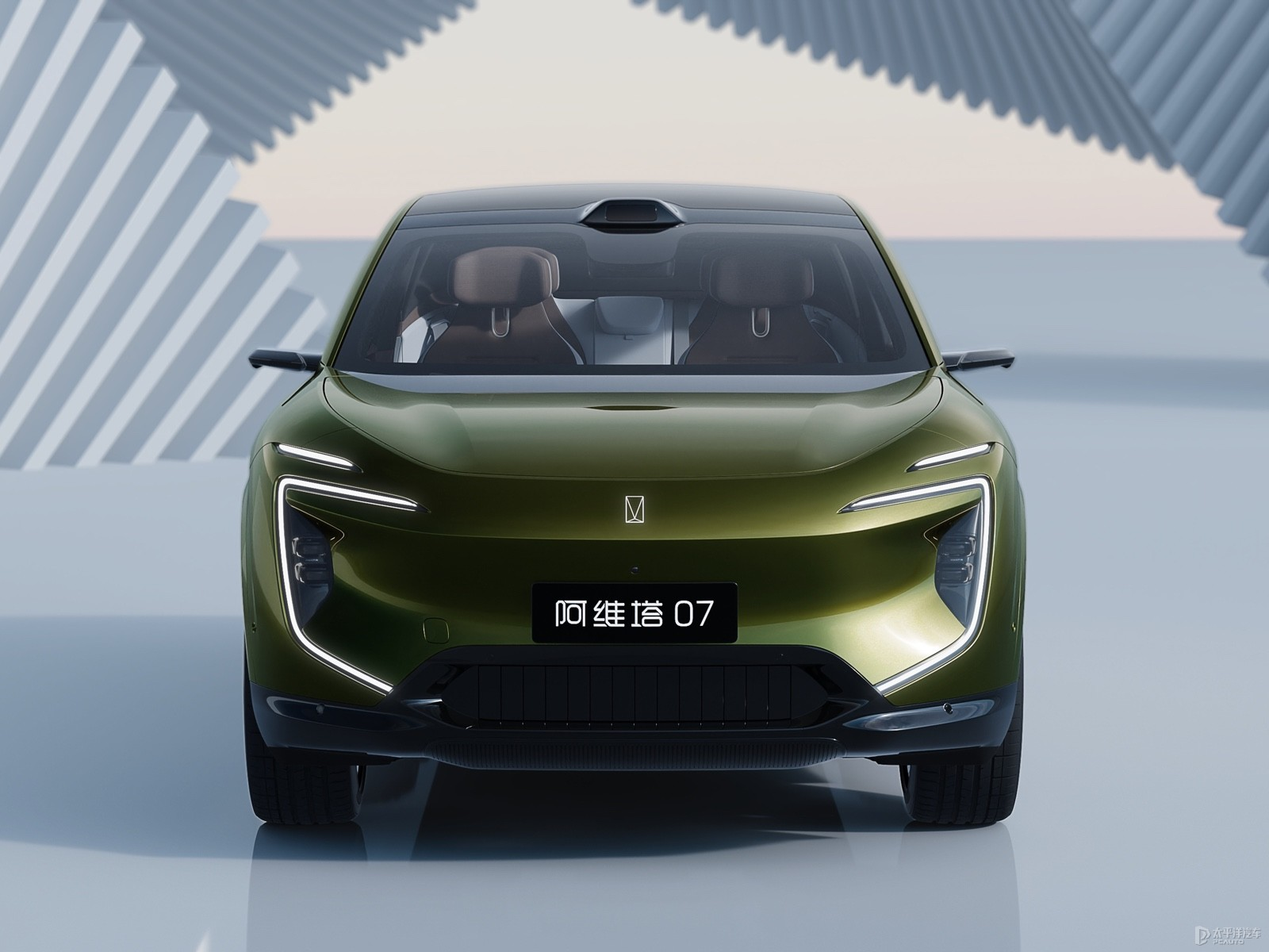AVATR: (626, 496, 644, 523)
